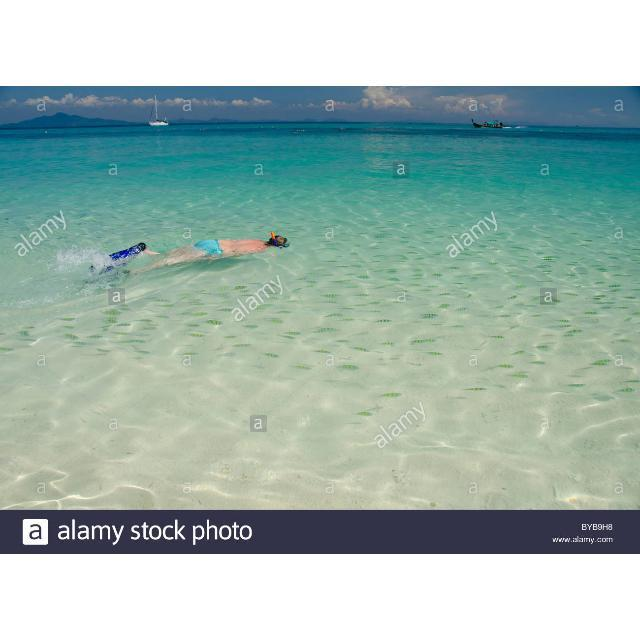human: (141, 231, 289, 276)
